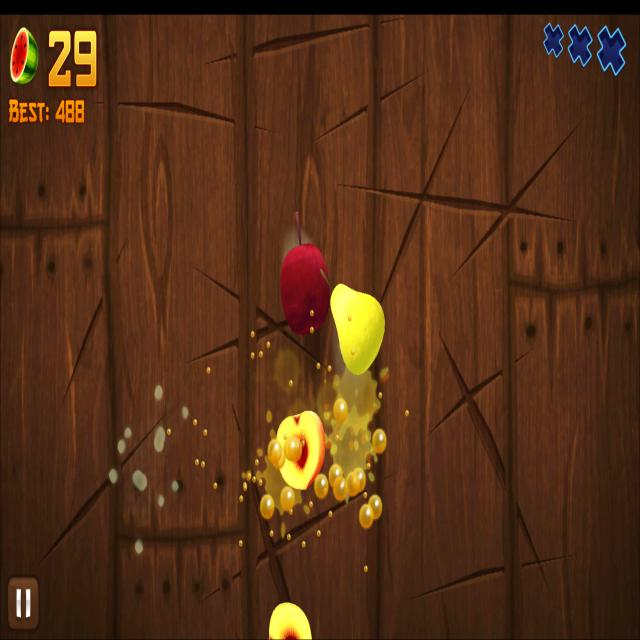fruit: (330, 283, 386, 375), (280, 242, 331, 334)
